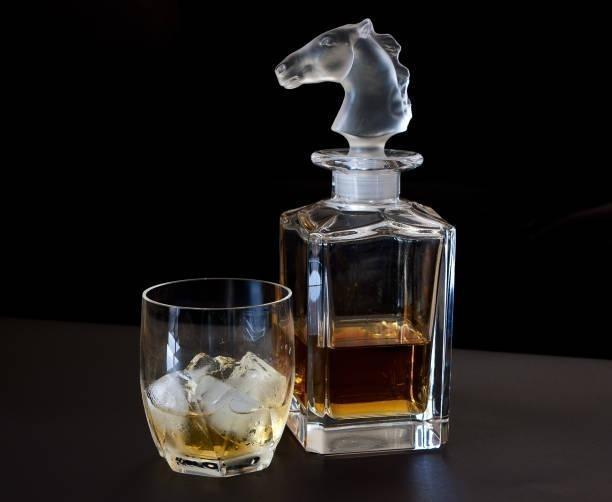bottle-glass: (274, 134, 461, 458)
glass-normal: (138, 276, 296, 478)
